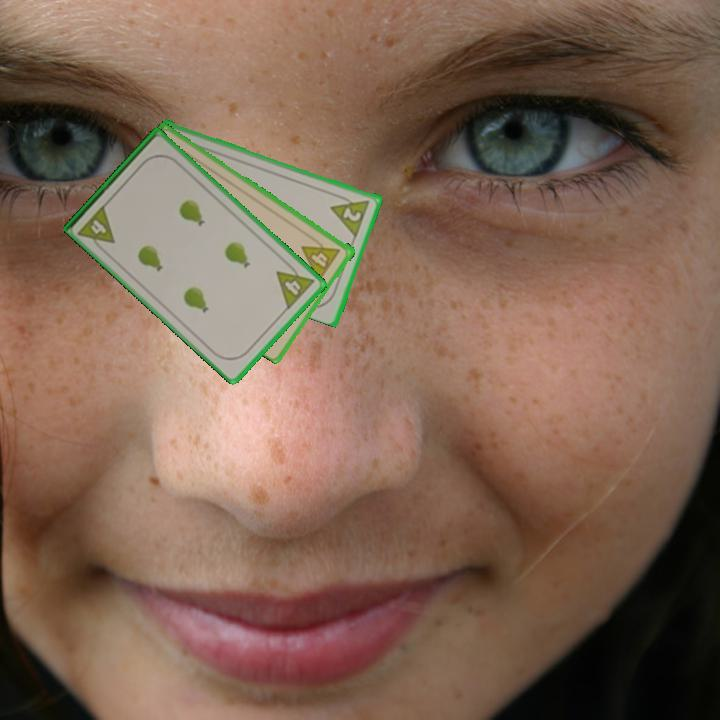2p: (327, 190, 373, 238)
4p: (273, 258, 317, 312), (298, 232, 344, 283), (75, 201, 118, 255)
